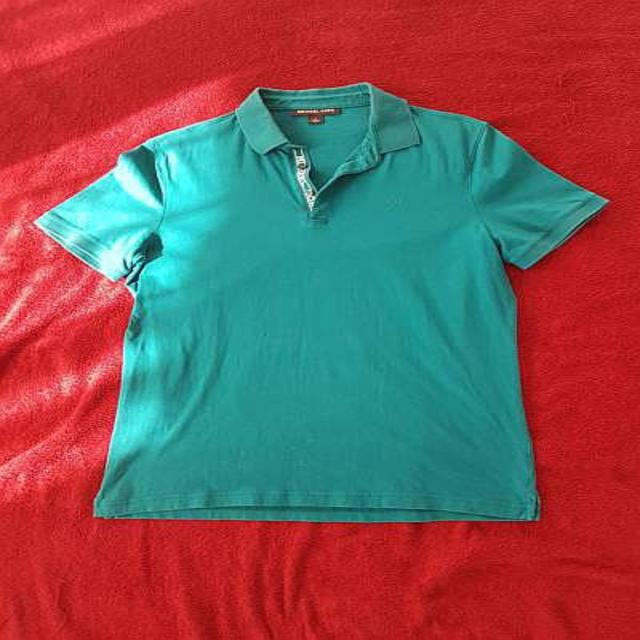T_SHIRT: (25, 64, 621, 539)
